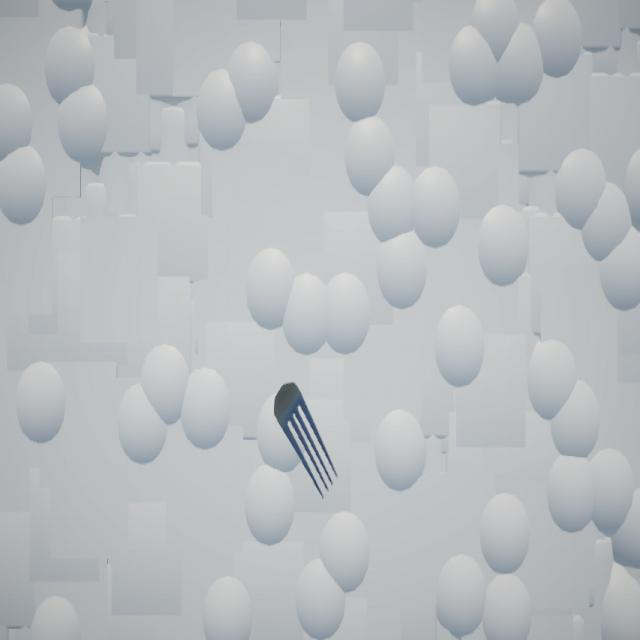top_folk: (275, 384, 339, 500)
